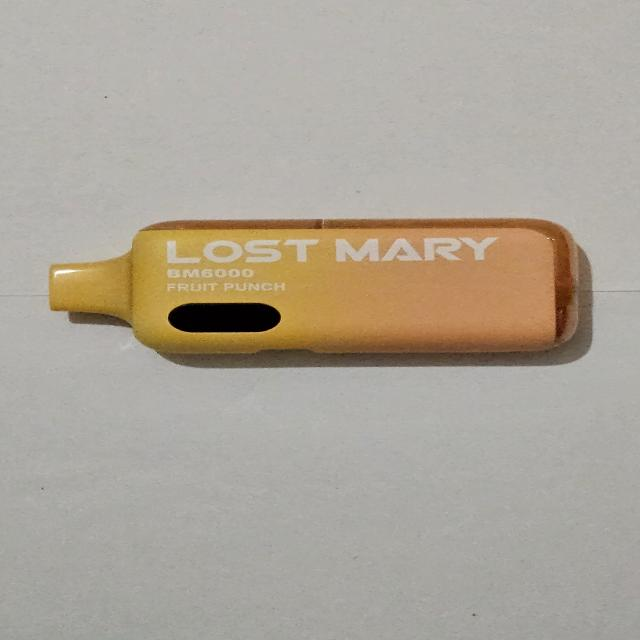Hazard: (48, 217, 582, 356)
